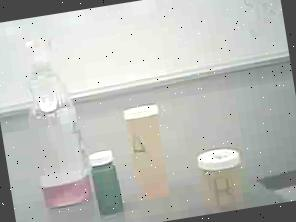Bottle A: (118, 98, 179, 206)
Bottle B: (193, 144, 252, 214)
Bottle C: (84, 147, 128, 217)
hazard: (11, 23, 97, 213)
